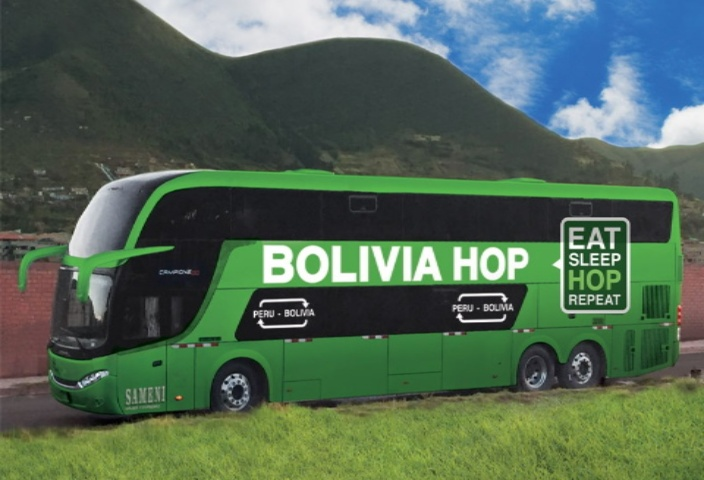bus: (19, 147, 680, 404)
